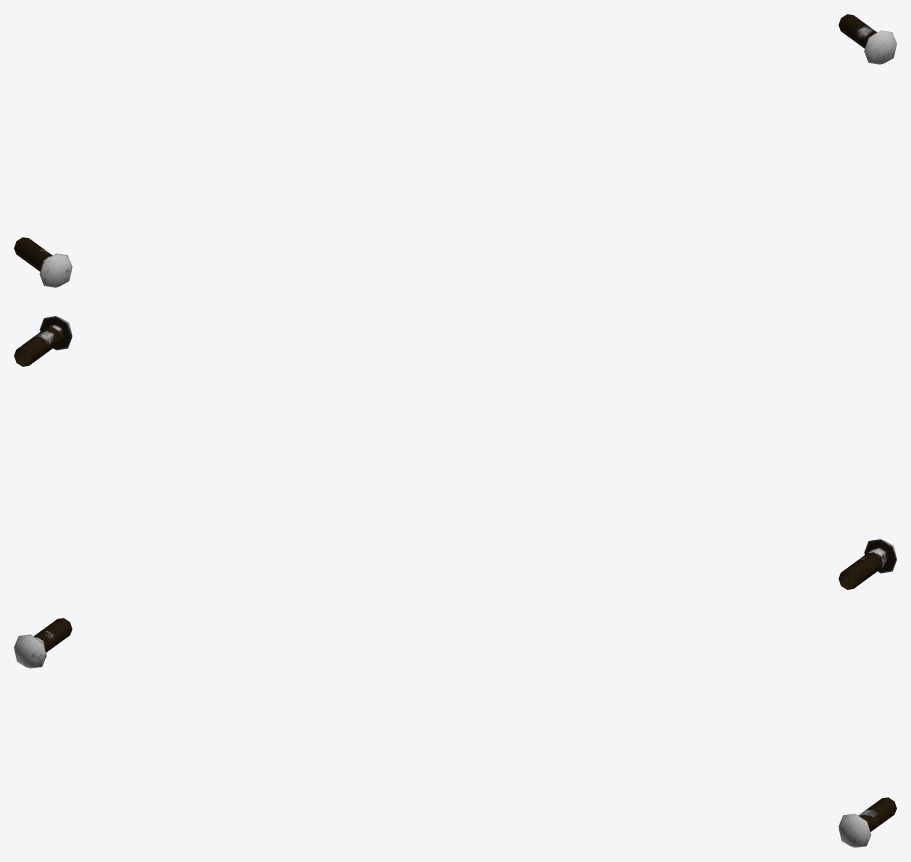
Rendered from curtain2Nails.glb.
3 views of the same model, one above another, from view 1: azimuth 30°, elevation 25°; view 2: azimuth 150°, elevation 25°; view 3: azimuth 330°, elevation 25° (orthographic).
Parts seen in each view (by area): view 1: curtain2Nails; view 2: curtain2Nails; view 3: curtain2Nails.
Boxes of the visible parts, box(x1,y1,x2,y2) form: curtain2Nails: box(14, 14, 896, 287); curtain2Nails: box(14, 316, 896, 589); curtain2Nails: box(14, 618, 896, 847).
Bounding box in the file's own units: 0.5573 × 0.0349 × 0.0424.
1 material, 1 textured.
